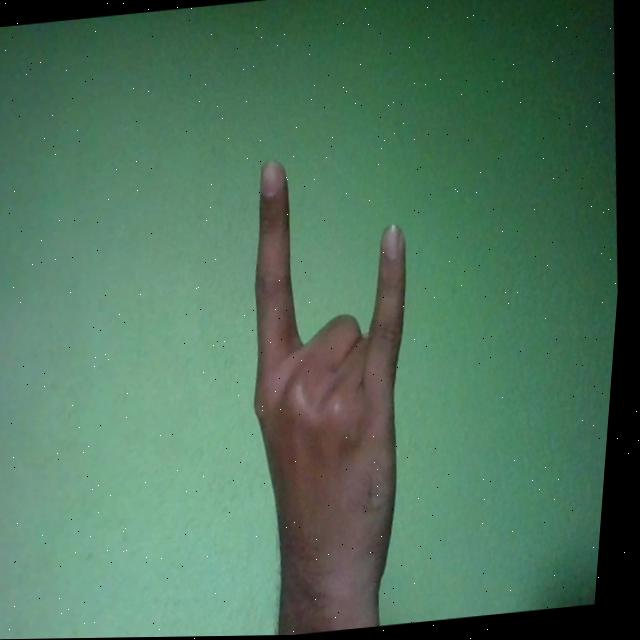Rock On: (226, 148, 445, 623)
